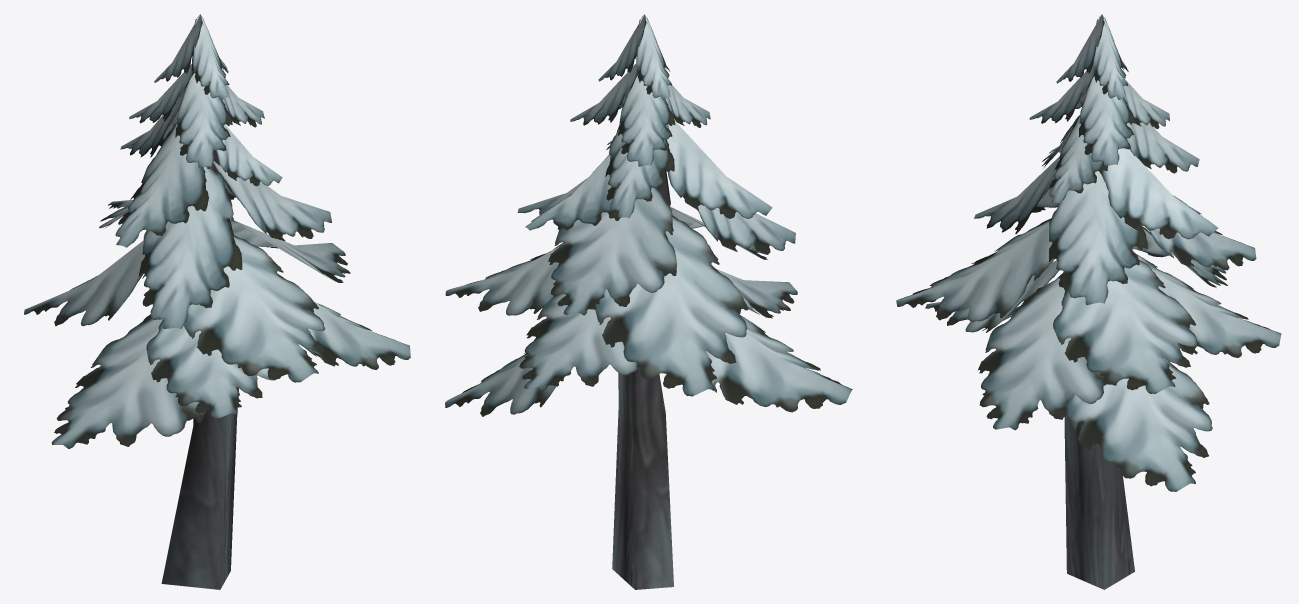
File: LGhuangyuan_shu03.FBX
3 views of the same model, side by side, from view 1: azimuth 30°, elevation 25°; view 2: azimuth 150°, elevation 25°; view 3: azimuth 270°, elevation 25° (orthographic).
Visible parts, largest first — view 1: LGhuangyuan_shuye03, LGhuangyuan_shugan03; view 2: LGhuangyuan_shuye03, LGhuangyuan_shugan03; view 3: LGhuangyuan_shuye03, LGhuangyuan_shugan03.
Boxes of the visible parts, left/top/right/bottom form: LGhuangyuan_shuye03: left=24, top=14, right=410, bottom=448; LGhuangyuan_shugan03: left=161, top=51, right=238, bottom=589; LGhuangyuan_shuye03: left=445, top=14, right=852, bottom=416; LGhuangyuan_shugan03: left=612, top=169, right=673, bottom=589; LGhuangyuan_shuye03: left=896, top=14, right=1281, bottom=491; LGhuangyuan_shugan03: left=1064, top=407, right=1134, bottom=589.
Size of the model in its own units: 79.8 by 73.07 by 116.
